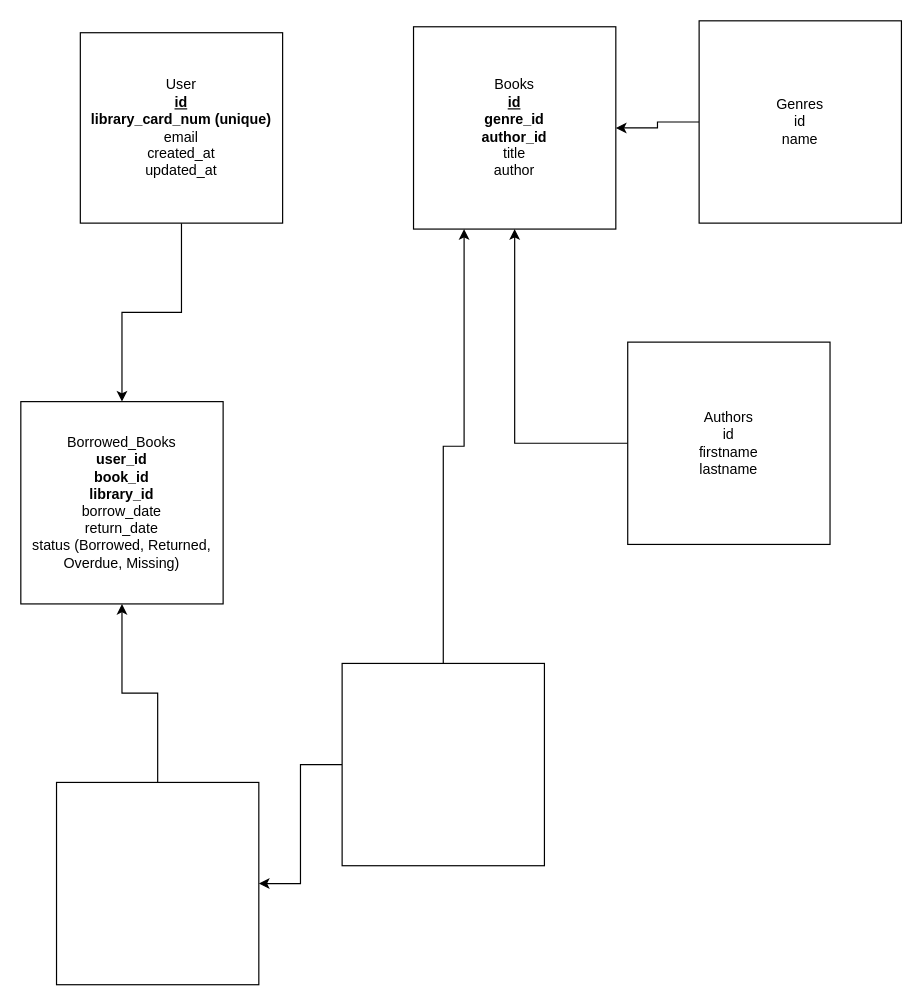
This 922x1006 diagram has some shape labels left out. Here are the shapes that lost their labels. From the top down, the centre of each, then its label:
the point at 442,764: Libraries_To_Books library_id book_id
the point at 157,883: Library id name address city state zip
